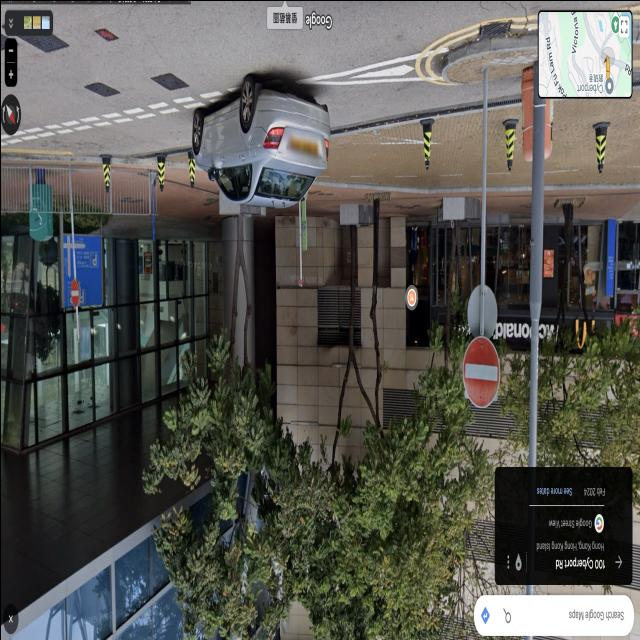Direction-Sign: (78, 234, 100, 304)
Order-Sign: (462, 336, 500, 406), (70, 280, 78, 304)
